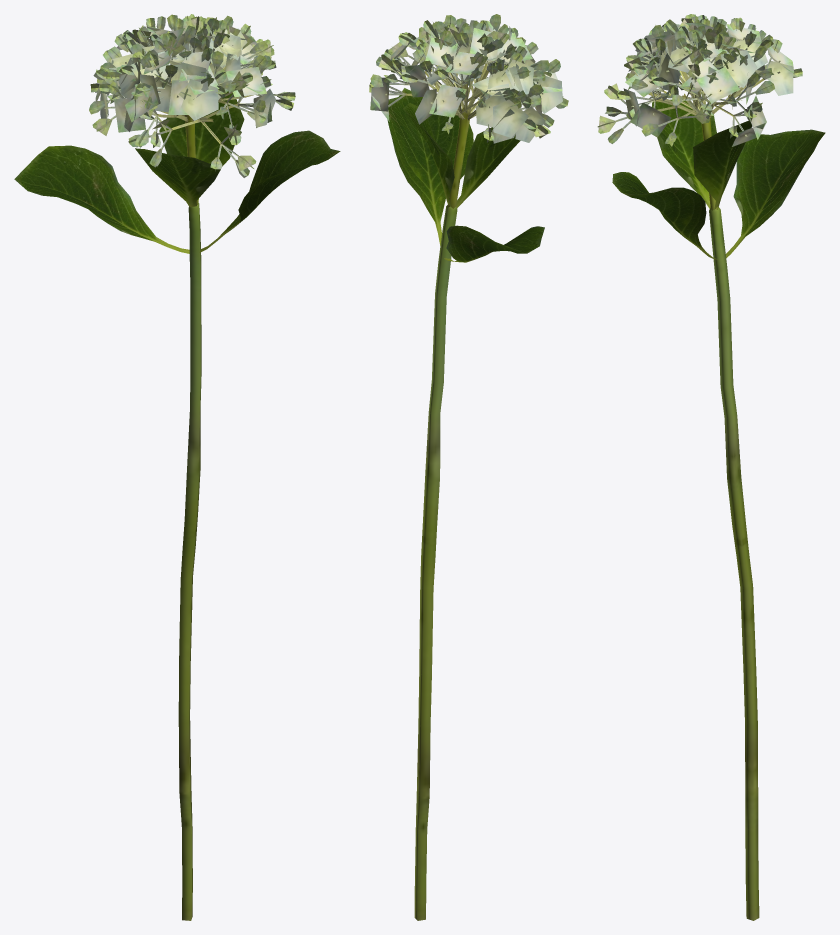
The model's file is Hydrangea_baby_long_greenyellow.glb.
The picture shows the model from 3 angles, left to right: view 1: azimuth 30°, elevation 25°; view 2: azimuth 150°, elevation 25°; view 3: azimuth 270°, elevation 25°; orthographic projection. The views are drawn at different scales.
Parts seen in each view (by area): view 1: BABY; view 2: BABY; view 3: BABY.
Boxes of the visible parts, box(x1,y1,x2,y2) form: BABY: box(14, 14, 340, 920); BABY: box(369, 14, 568, 920); BABY: box(597, 14, 825, 920).
Bounding box in the file's own units: 0.7928 × 3.08 × 0.7195.
1 material, 1 textured.
